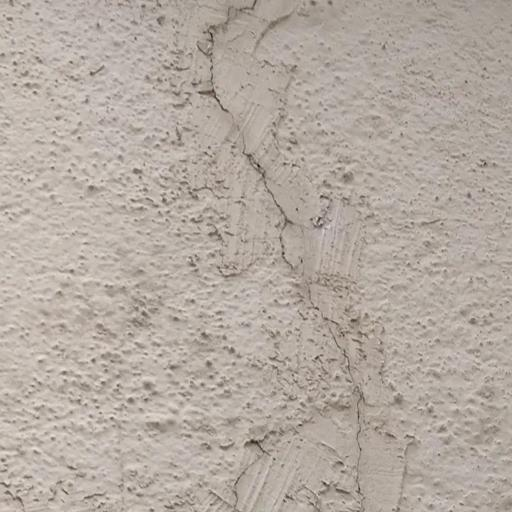minor_crack: (199, 4, 375, 512)
